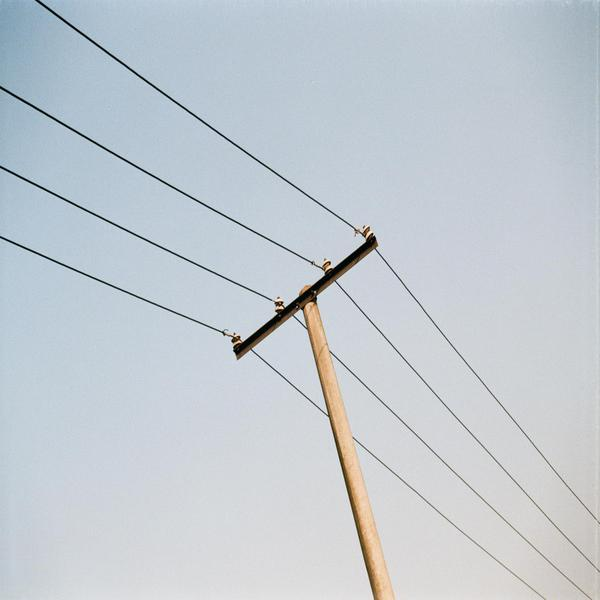utility_pole: (210, 210, 403, 420)
